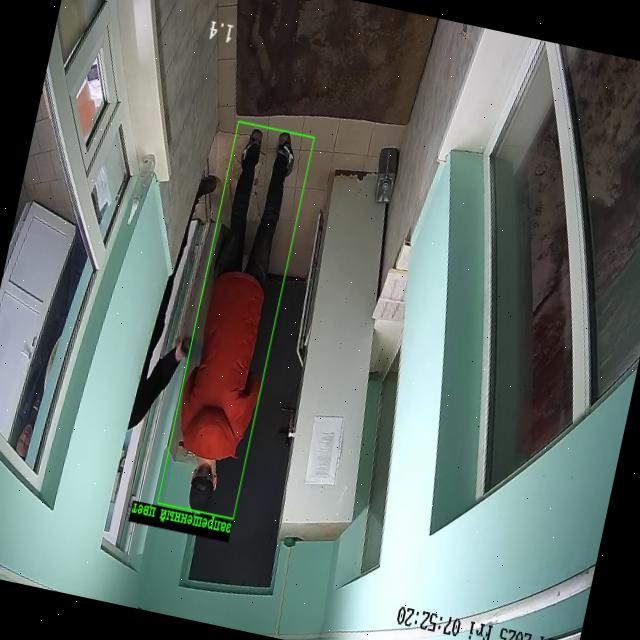Person: (180, 129, 294, 510), (127, 174, 217, 429), (12, 230, 87, 459)
